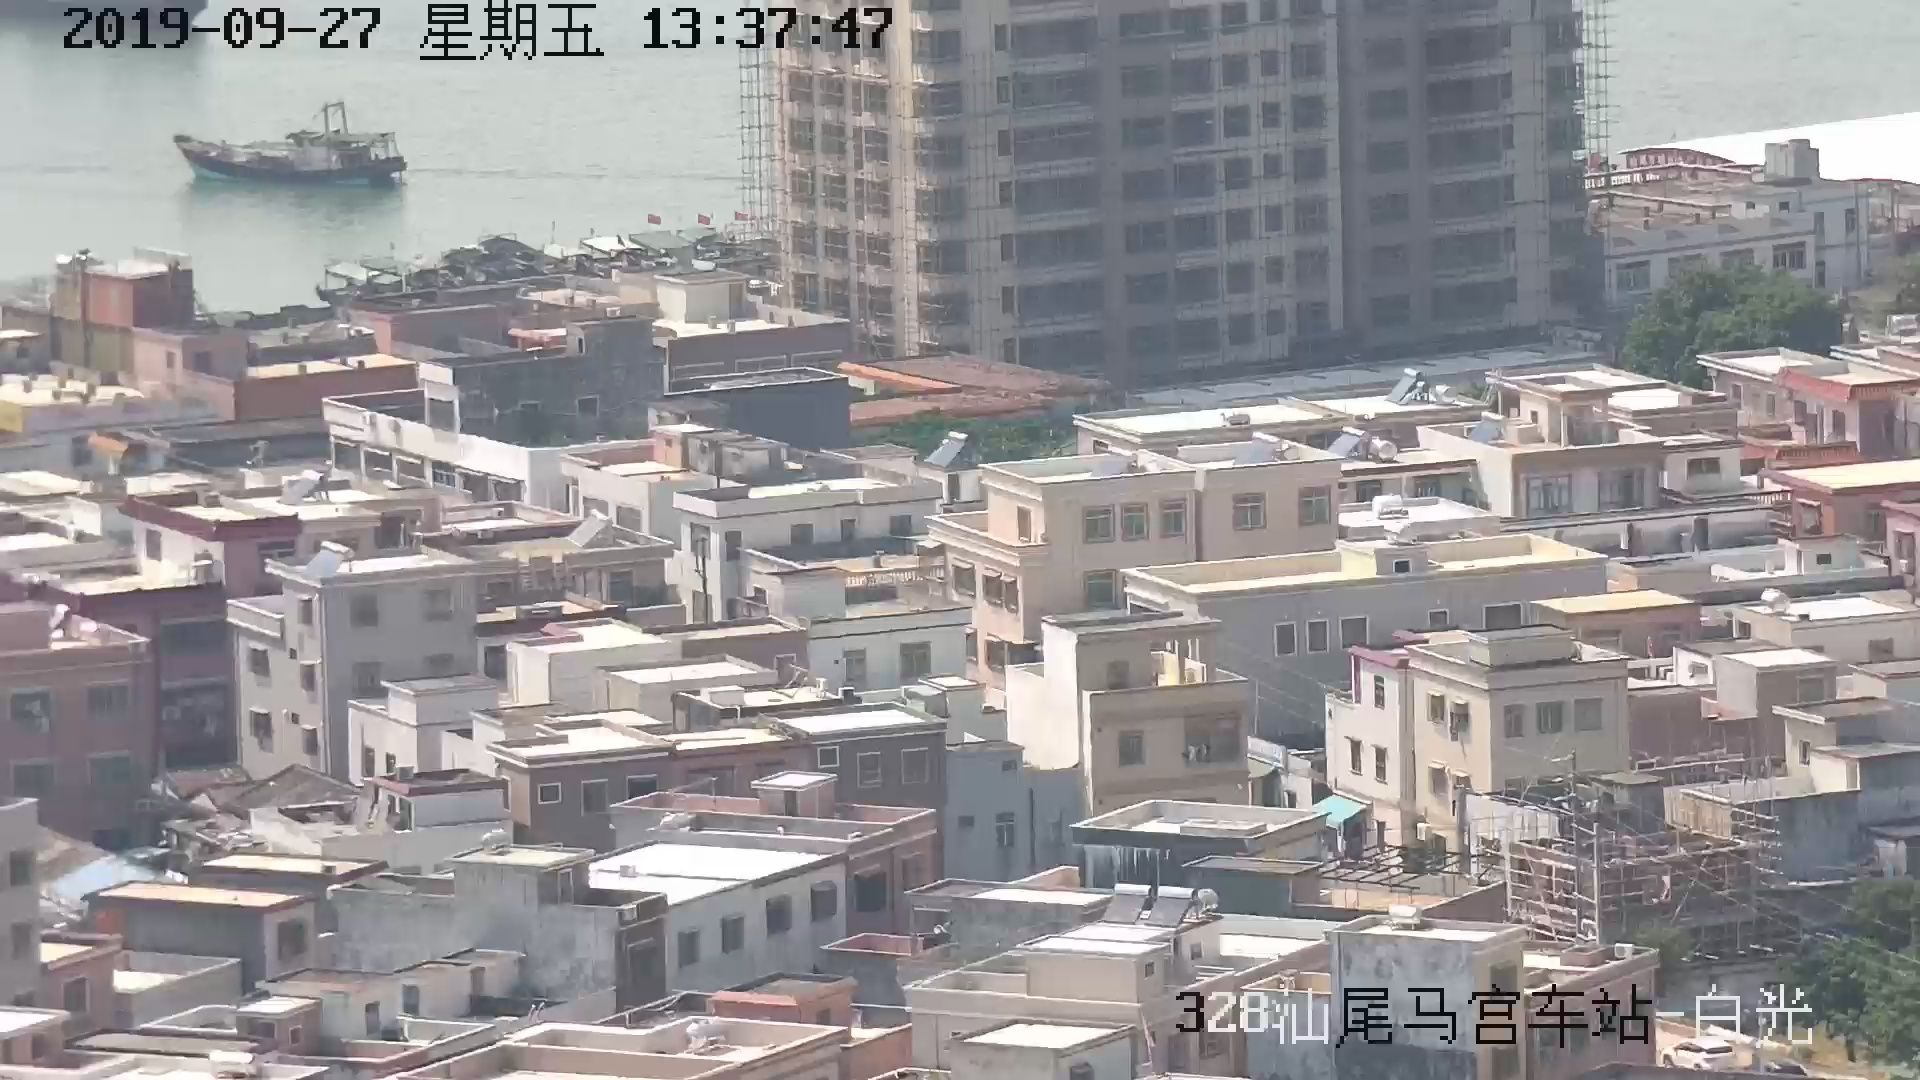ship: (177, 98, 410, 187)
